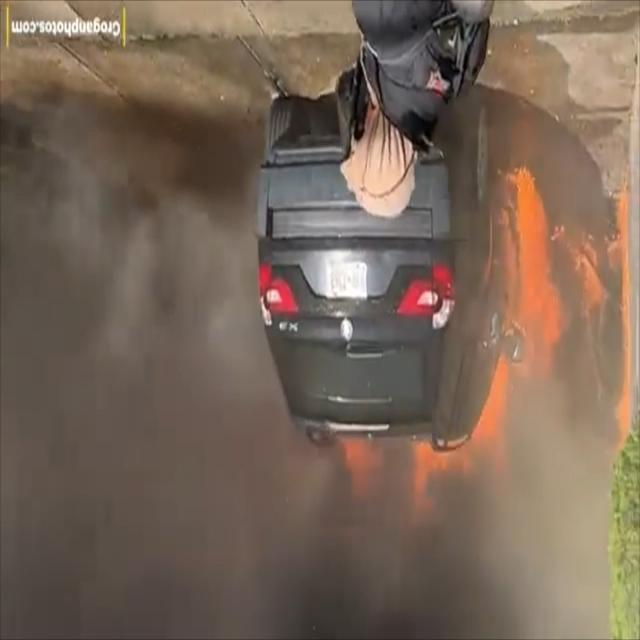fire: (492, 154, 635, 462), (326, 436, 482, 510)
